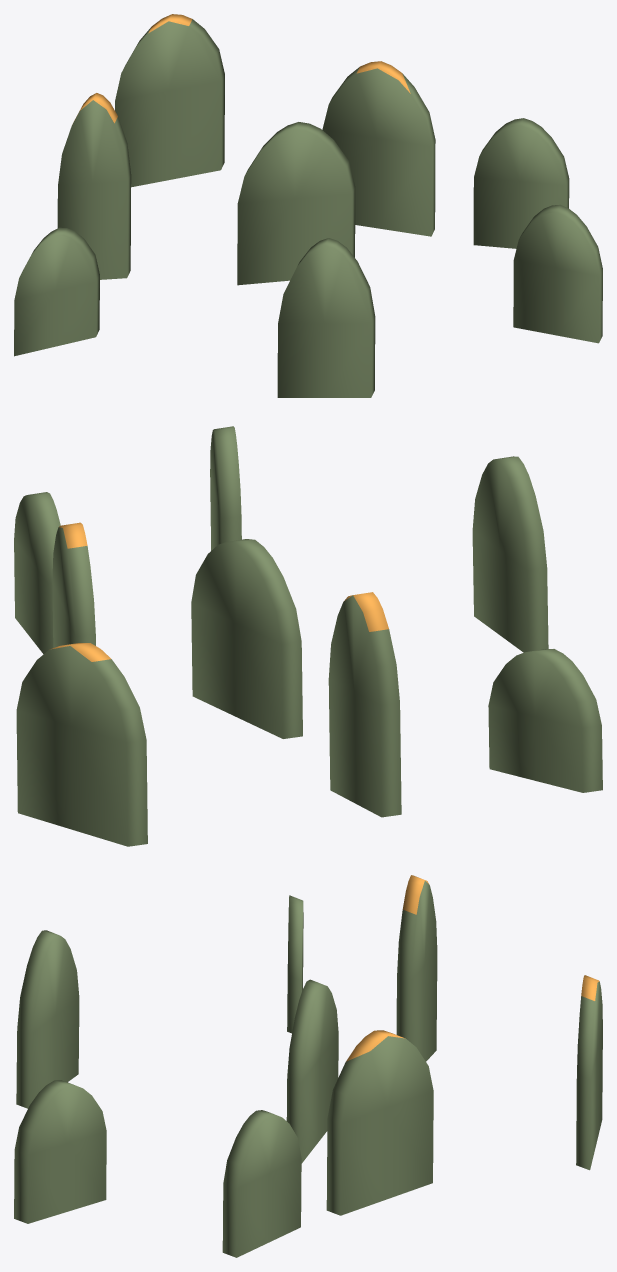
Rendered from grassTuft.glb.
The picture shows the model from 3 angles, top to bottom: view 1: azimuth 30°, elevation 25°; view 2: azimuth 150°, elevation 25°; view 3: azimuth 270°, elevation 25°; orthographic projection. The views are drawn at different scales.
Parts seen in each view (by area): view 1: grassTuft; view 2: grassTuft; view 3: grassTuft.
Part boxes in pixels (x1=…): grassTuft: x1=14, y1=14, x2=602, y2=397; grassTuft: x1=14, y1=426, x2=602, y2=846; grassTuft: x1=14, y1=875, x2=602, y2=1257.
Bounding box in the file's own units: 0.6802 × 0.22 × 0.6331.
